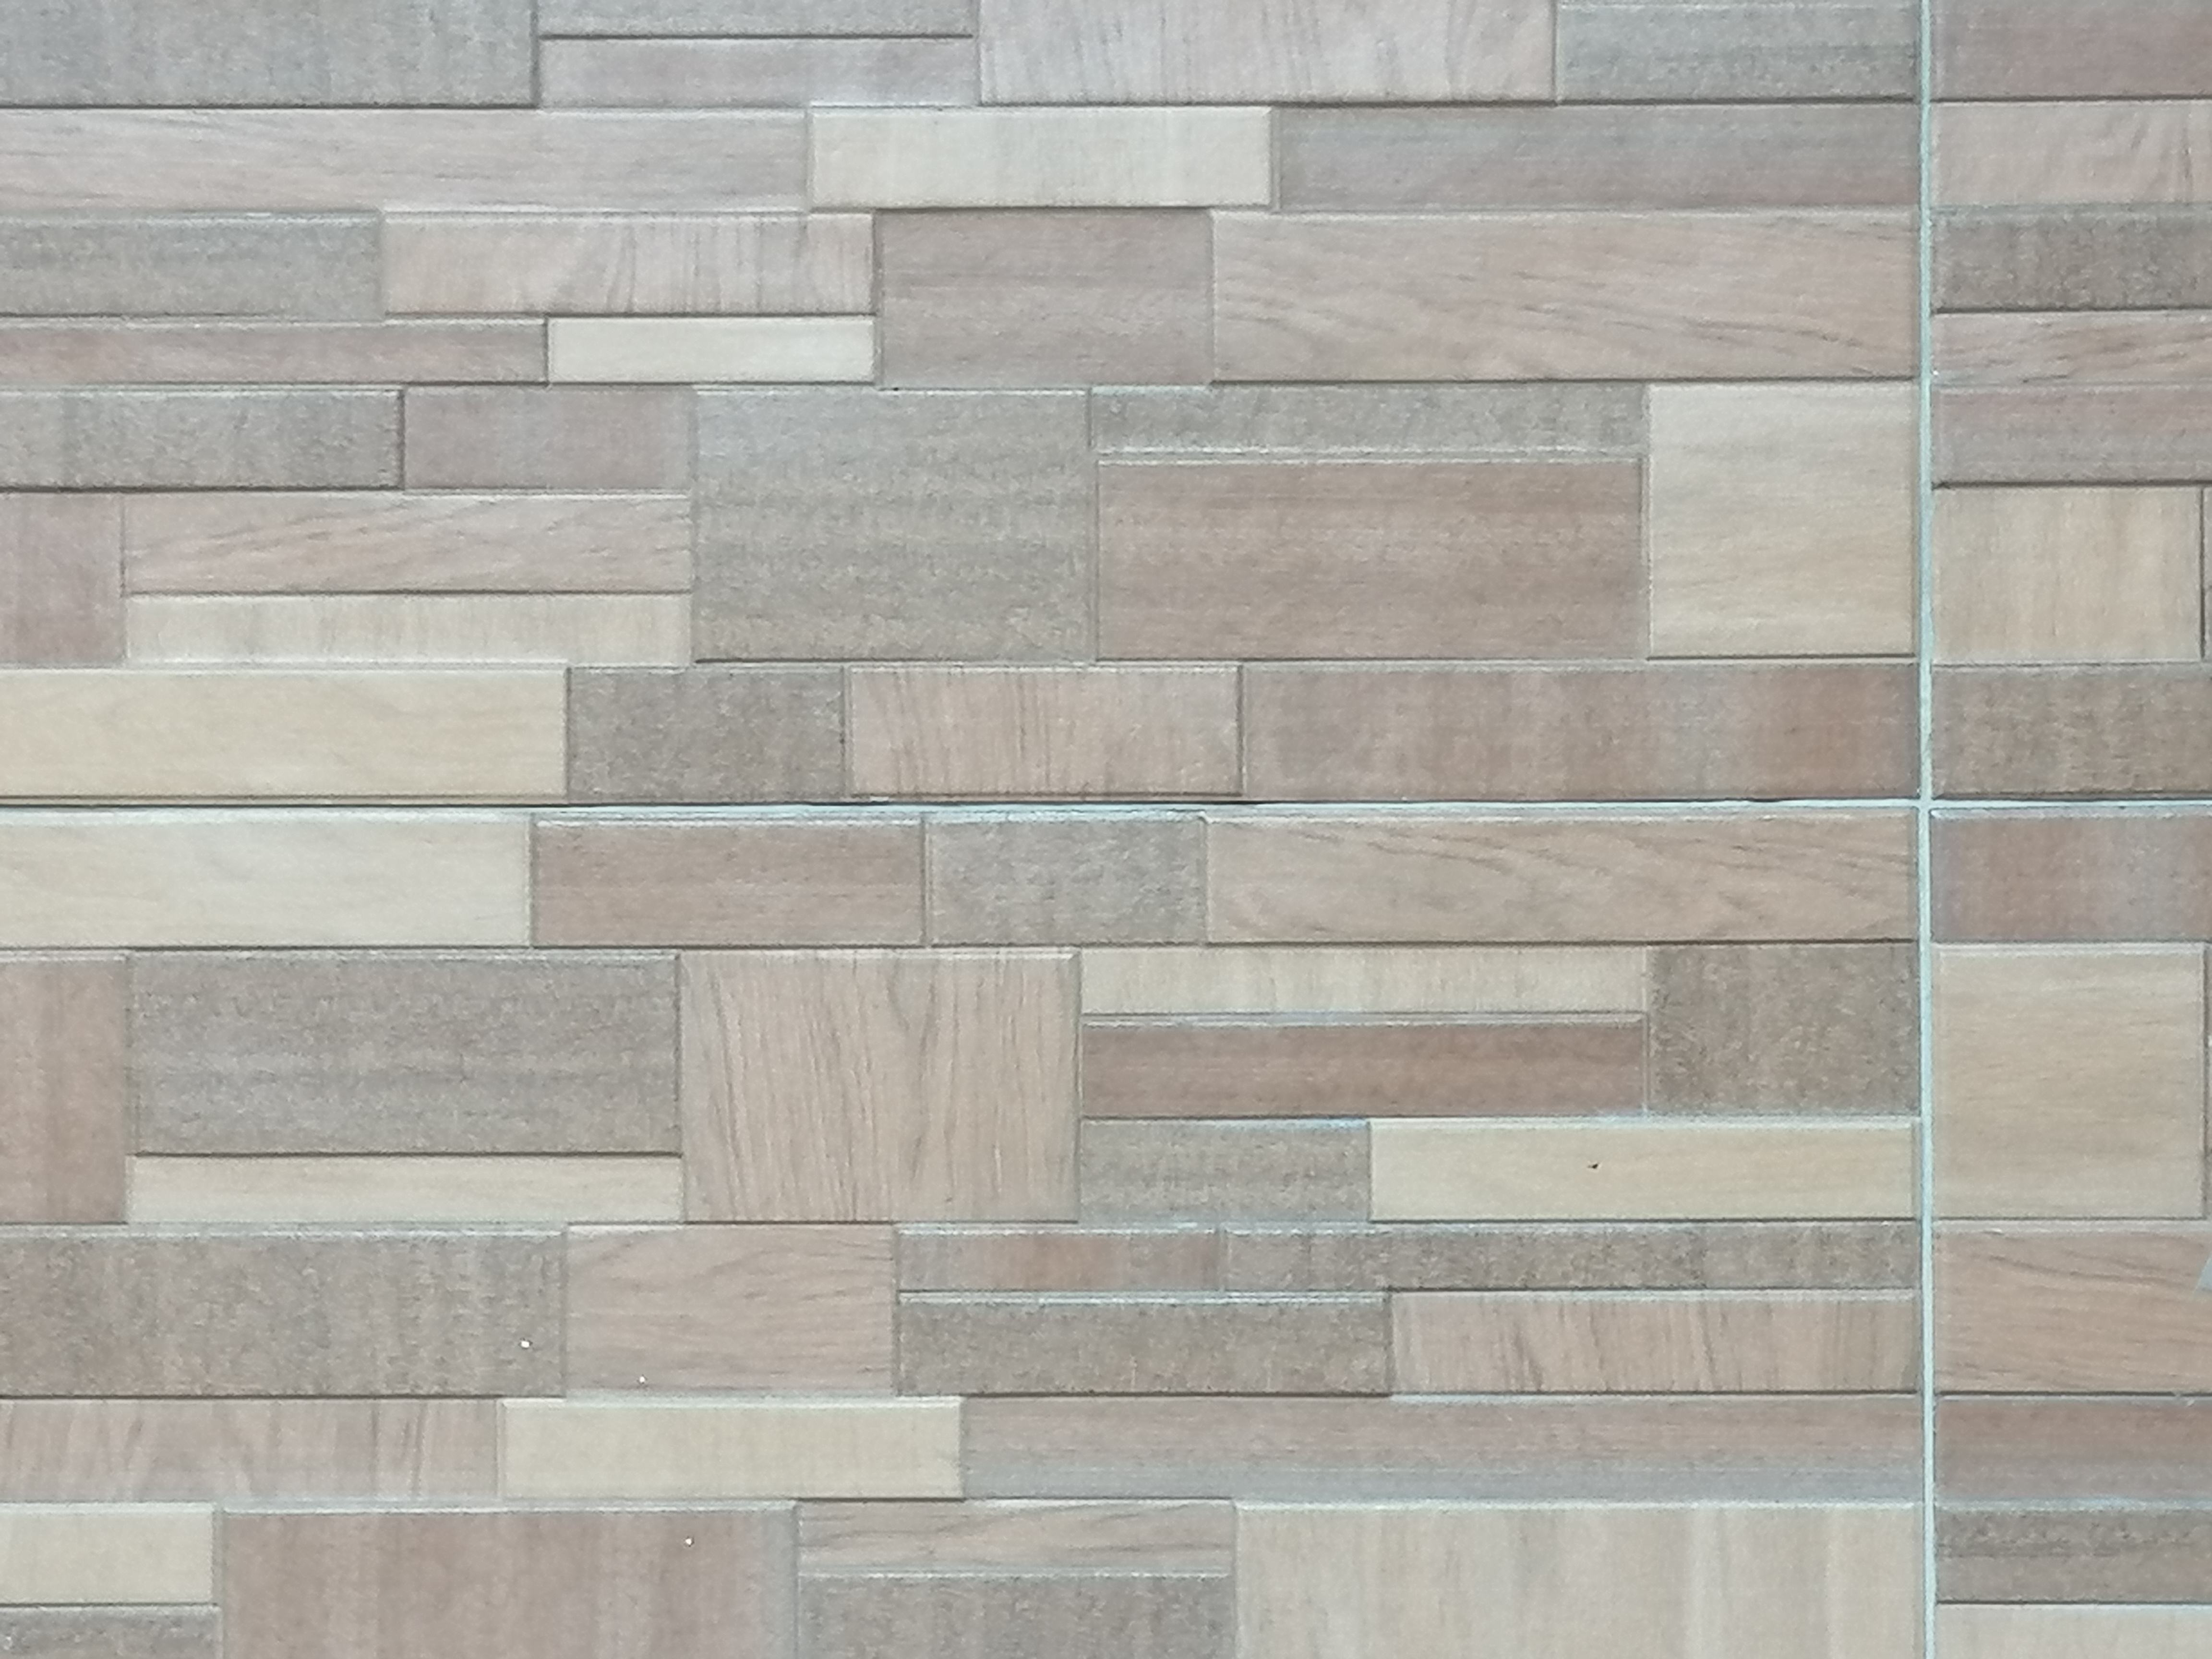wall: (3, 12, 2212, 1659)
